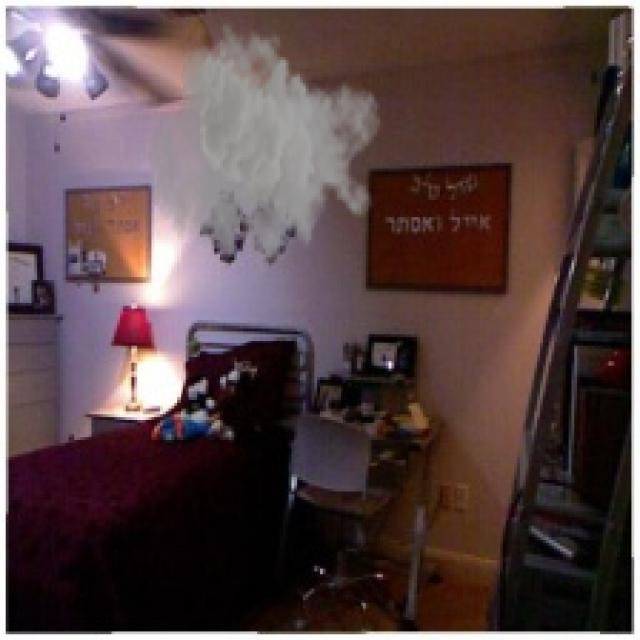smoke: (146, 20, 383, 286)
